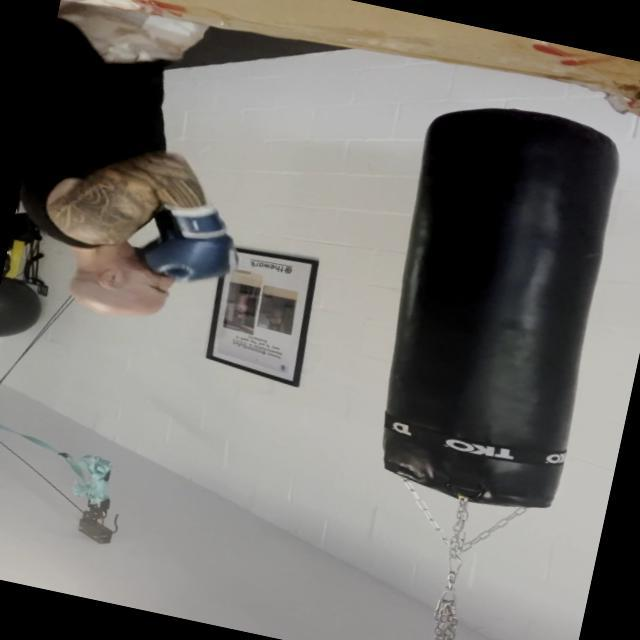bag: (340, 75, 640, 527)
no punch: (0, 114, 263, 360)
